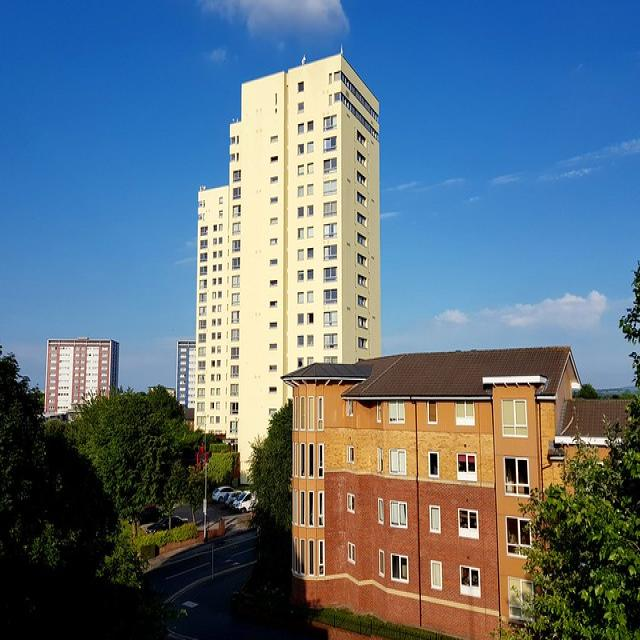building: (282, 341, 640, 632), (195, 41, 383, 568)
